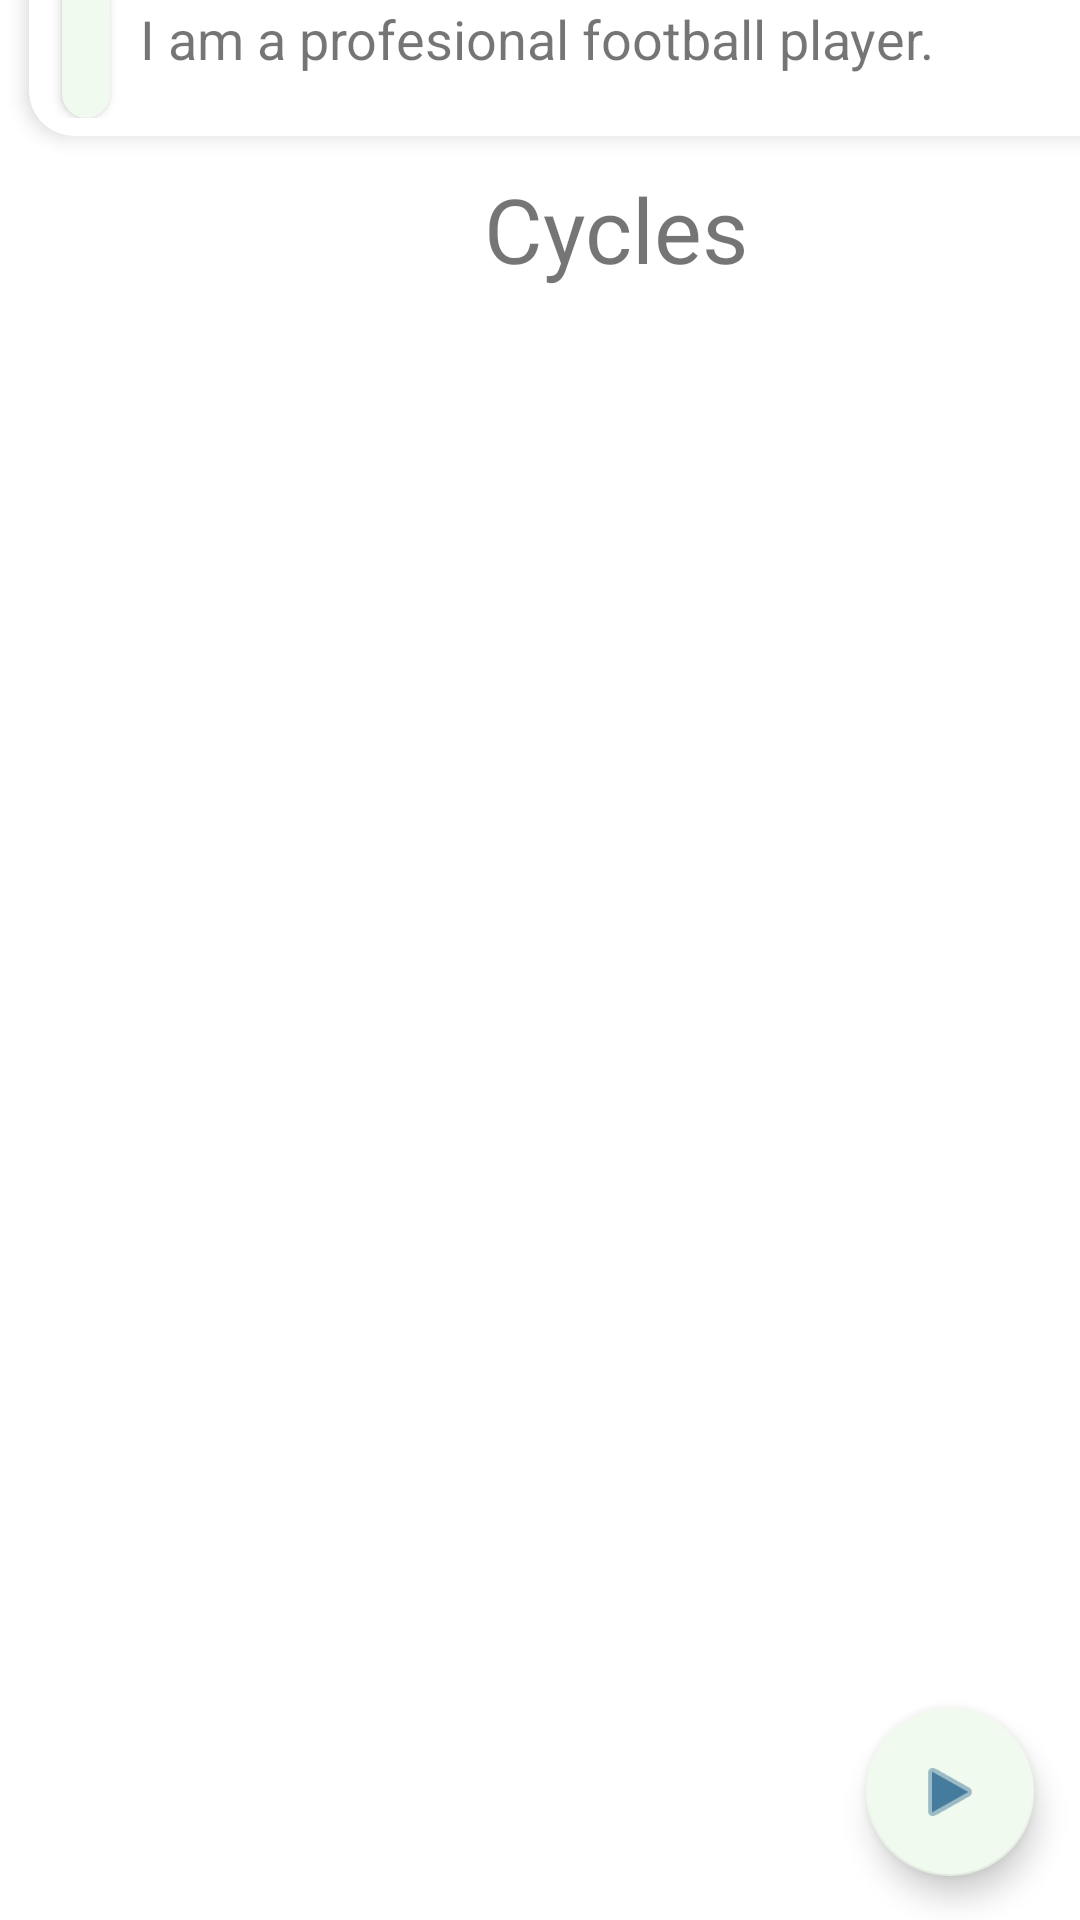

Screen size 1080px×1920px. Icon name, then its box in pixels as (x1, y1, x2, y2):
play: (866, 1708, 1034, 1876)
